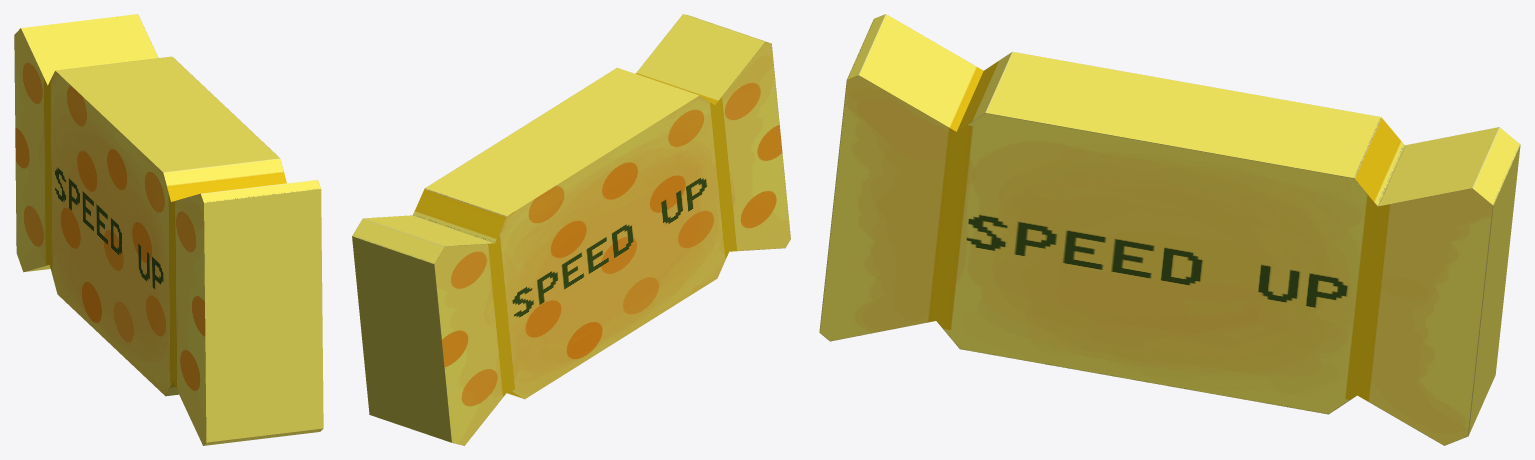
File: SPEED_UP_SWEET.fbx
3 renders of one model, left to right at view 1: azimuth 30°, elevation 25°; view 2: azimuth 150°, elevation 25°; view 3: azimuth 270°, elevation 25°, orthographic. The views are drawn at different scales.
Parts seen in each view (by area): view 1: SWEETS:pCube1; view 2: SWEETS:pCube1; view 3: SWEETS:pCube1.
Part boxes in pixels (bbox=[...]): SWEETS:pCube1: bbox=[14, 14, 323, 445]; SWEETS:pCube1: bbox=[352, 14, 790, 445]; SWEETS:pCube1: bbox=[819, 14, 1520, 445].
Bounding box in the file's own units: 0.3432 × 0.4516 × 0.8727.
